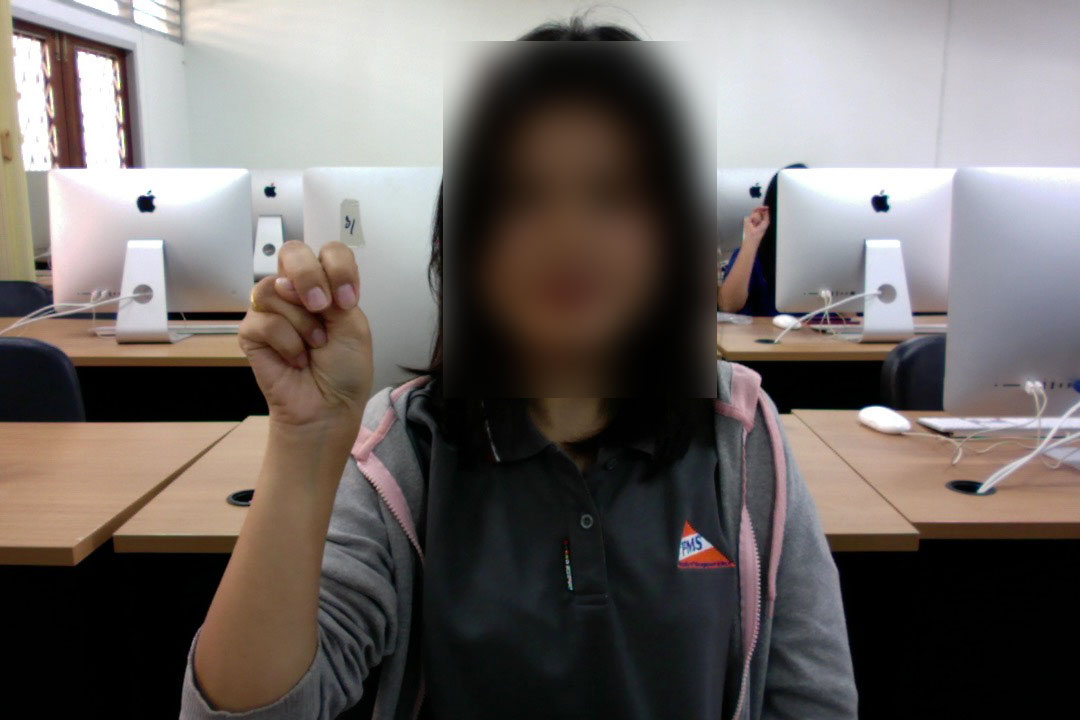nor: (233, 238, 380, 461)
